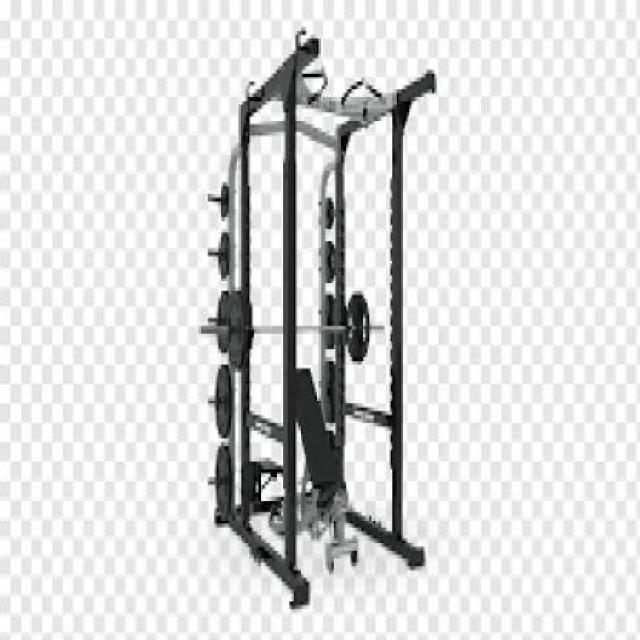smith machine: (198, 28, 437, 609)
